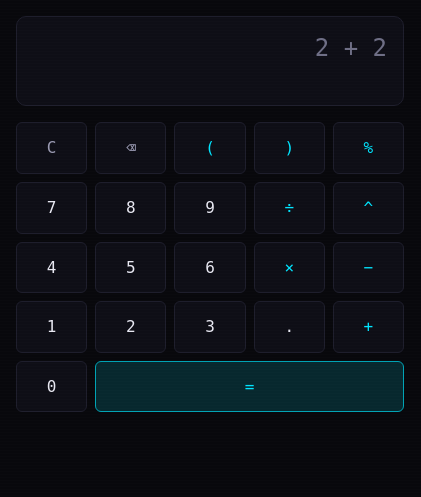
Scenario: Calculator › puts a past result back into the expression when it is clicked
In the field named "expression": (210, 48) [33,29,387,67], type "8*8"
Then press Enter
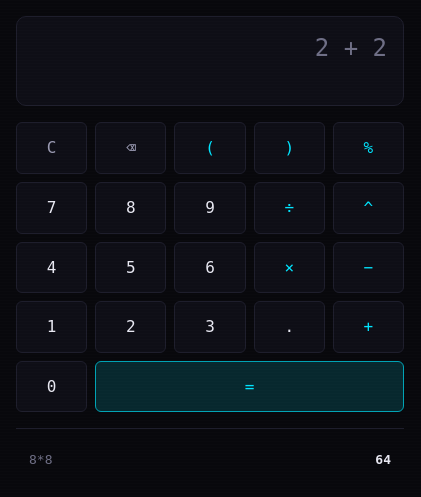
Click the button "8*8 64": (41, 460) [16,441,404,480]
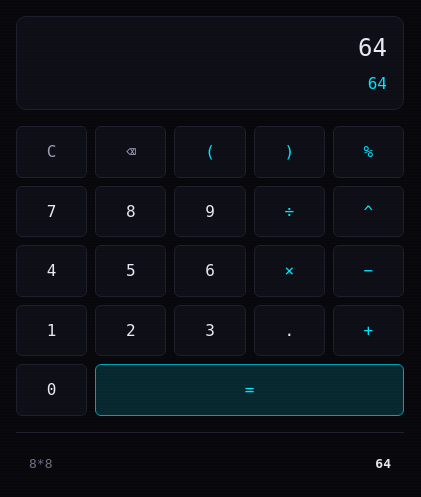
Expected: the field named "expression" holds "64", [33,29,387,67]
